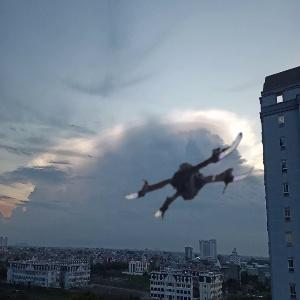drone: (122, 103, 254, 235)
